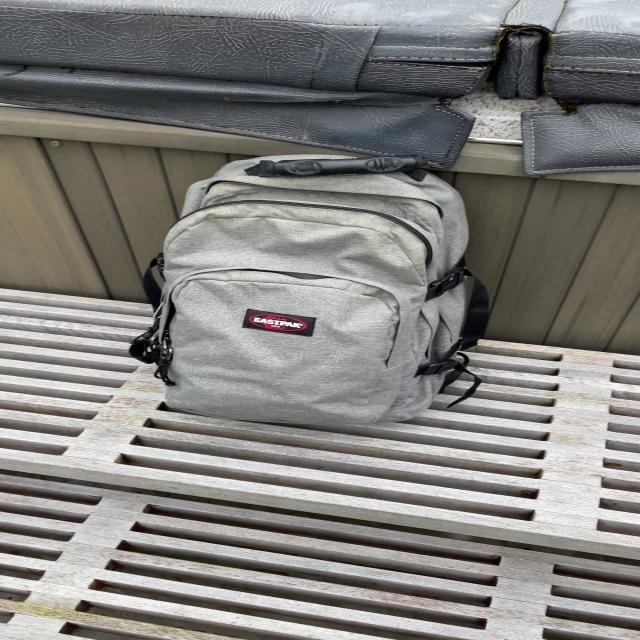backpack: (125, 144, 502, 430)
